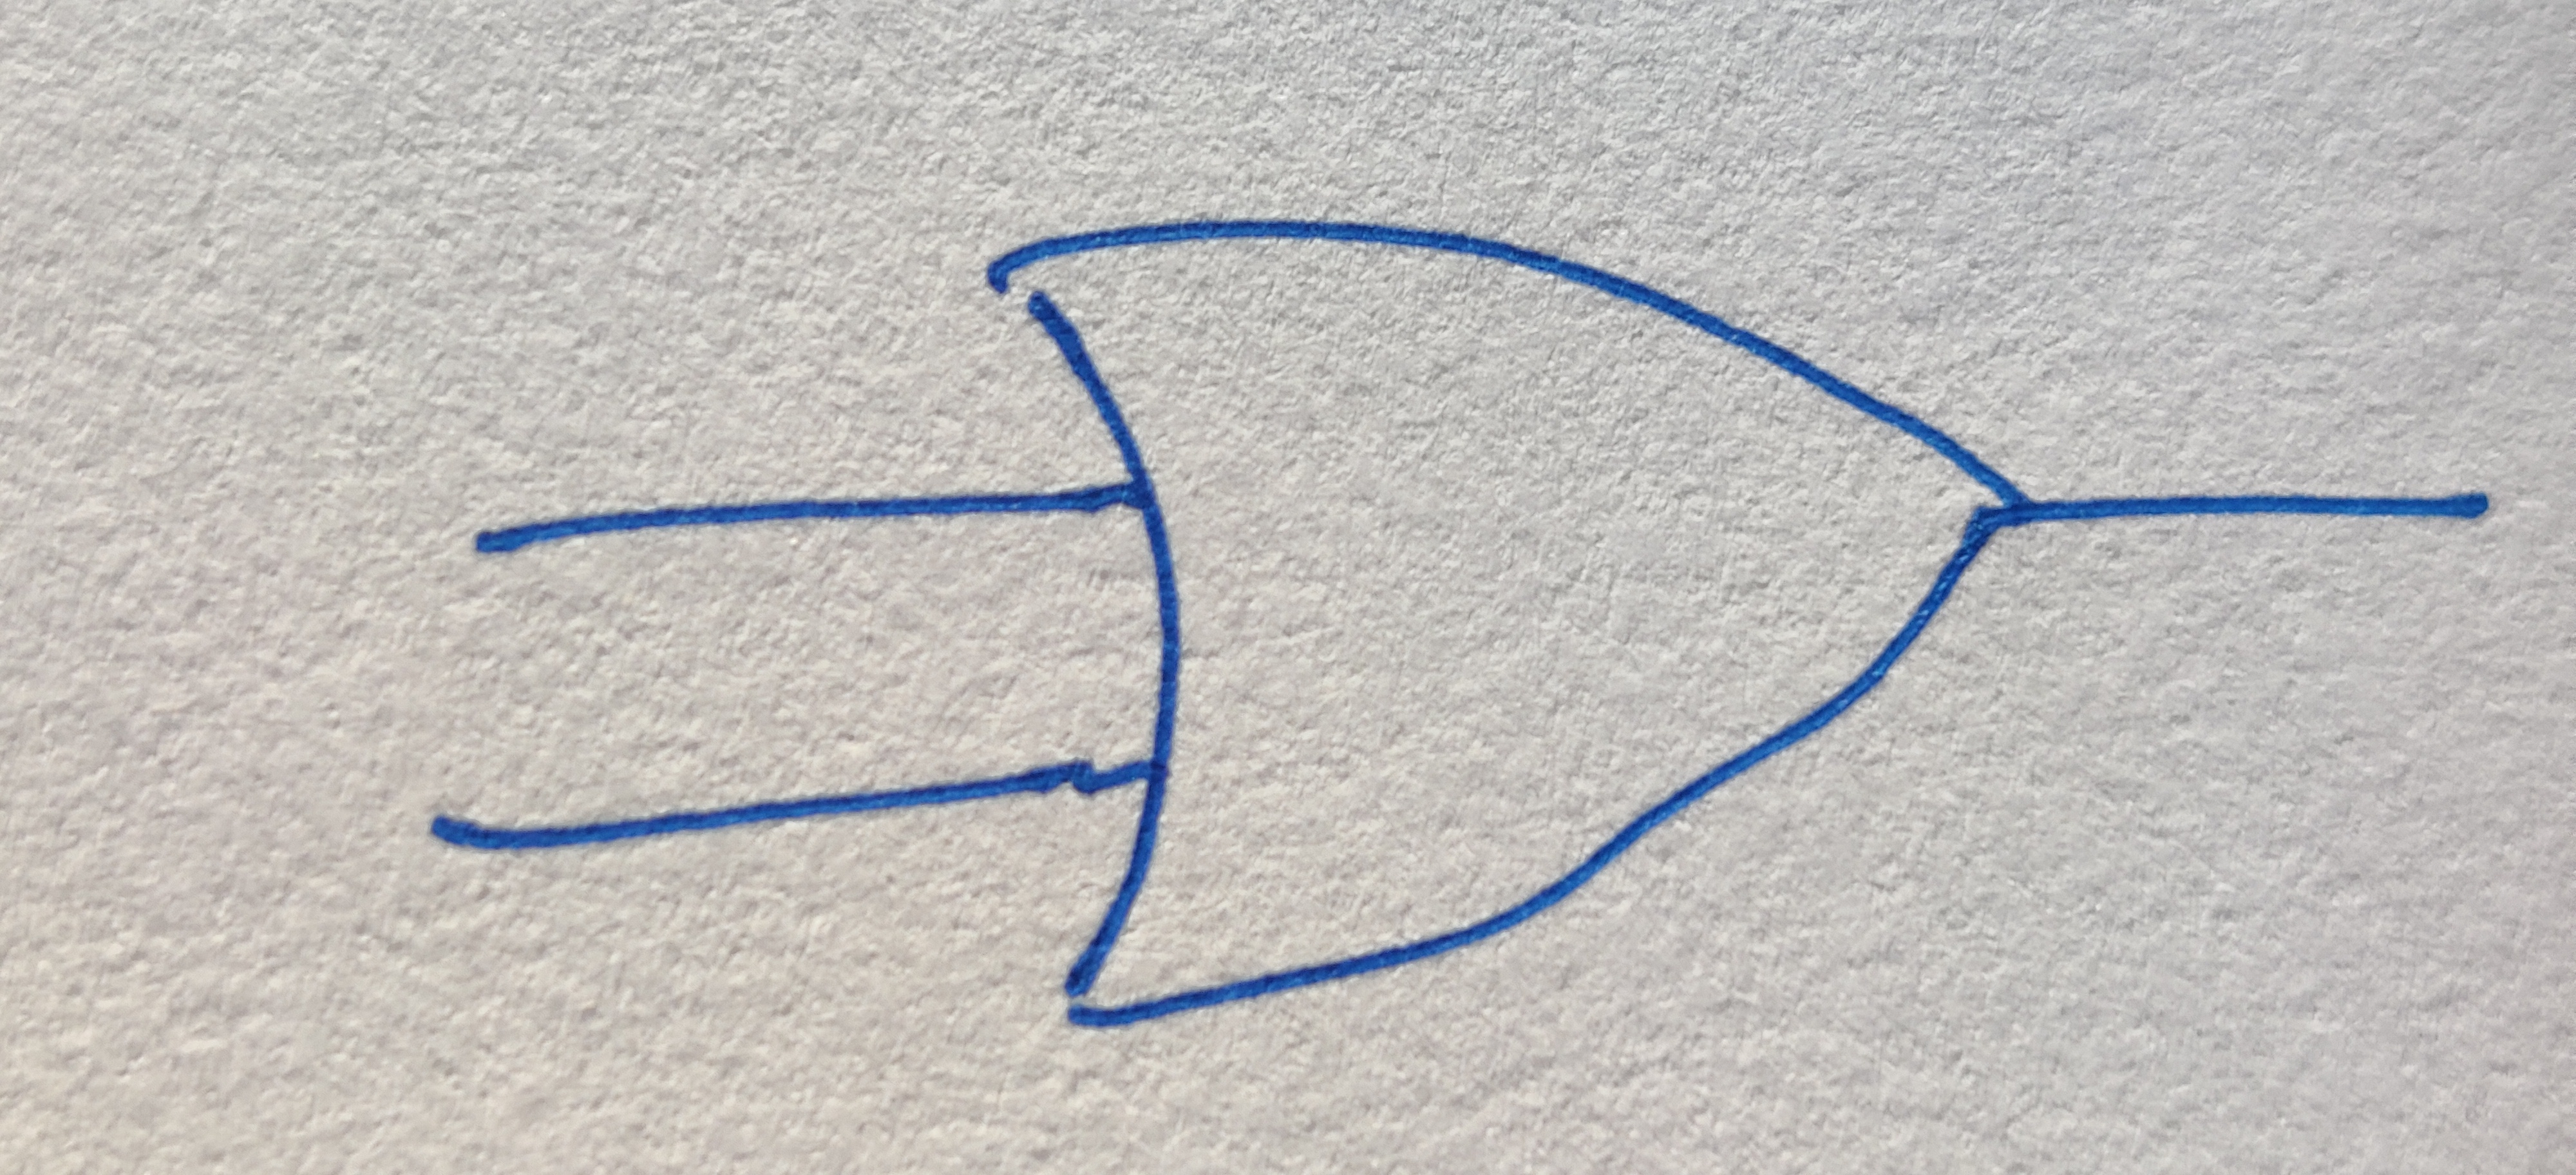or: (991, 219, 2014, 1024)
